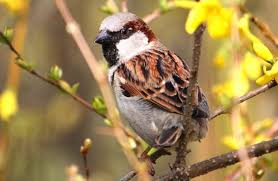hsparrow: (91, 9, 217, 162)
